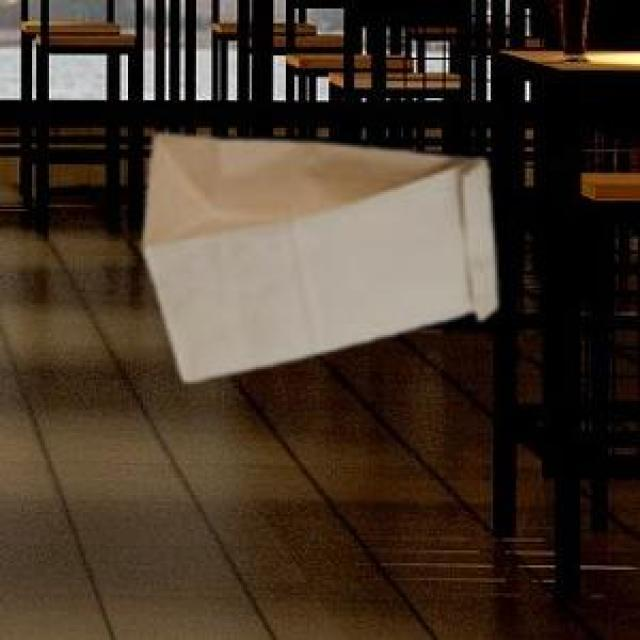paper: (139, 130, 493, 378)
